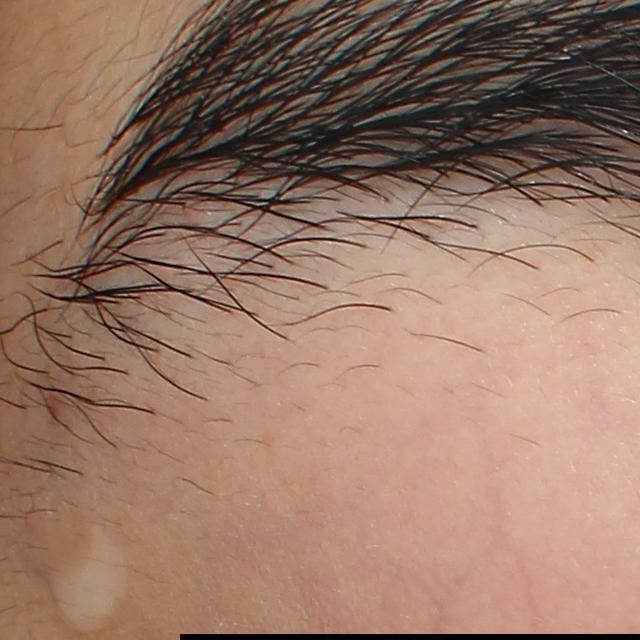other: (44, 533, 128, 638)
